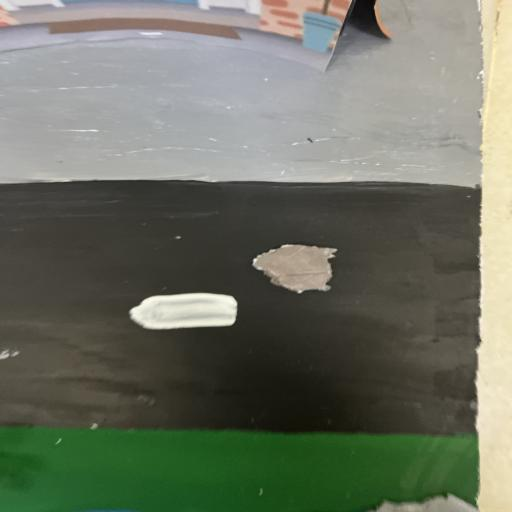porthole: (249, 241, 345, 296)
